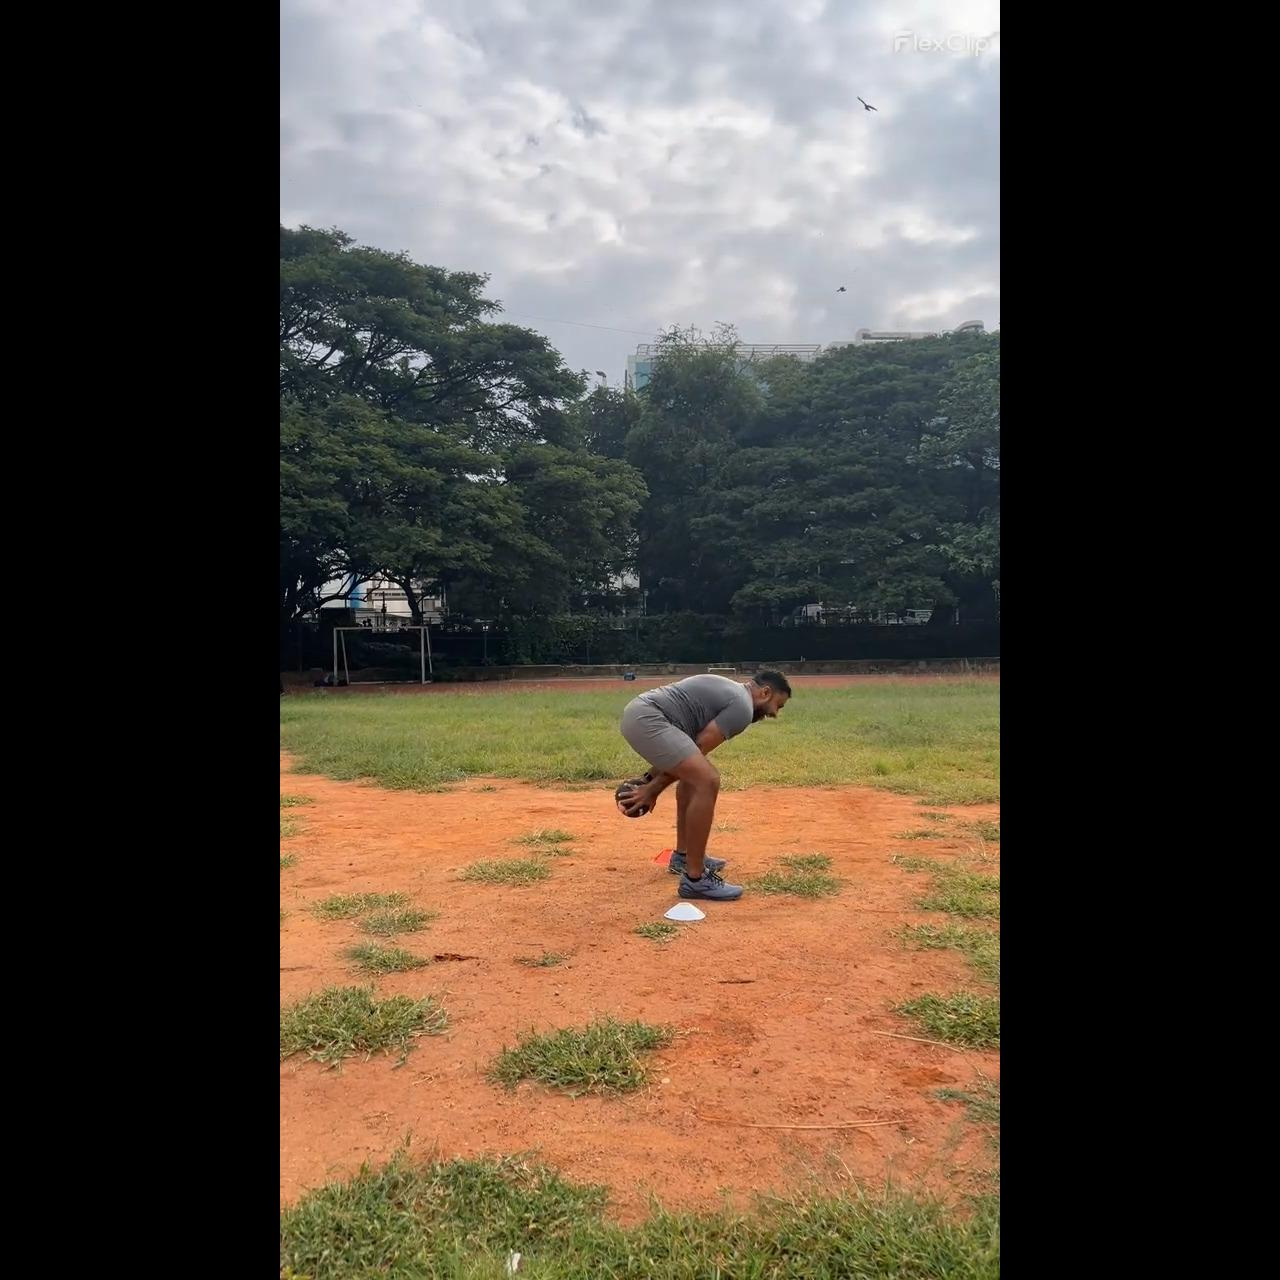Athelete: (608, 668, 794, 904)
